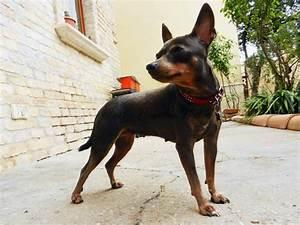dog: (70, 2, 230, 217)
